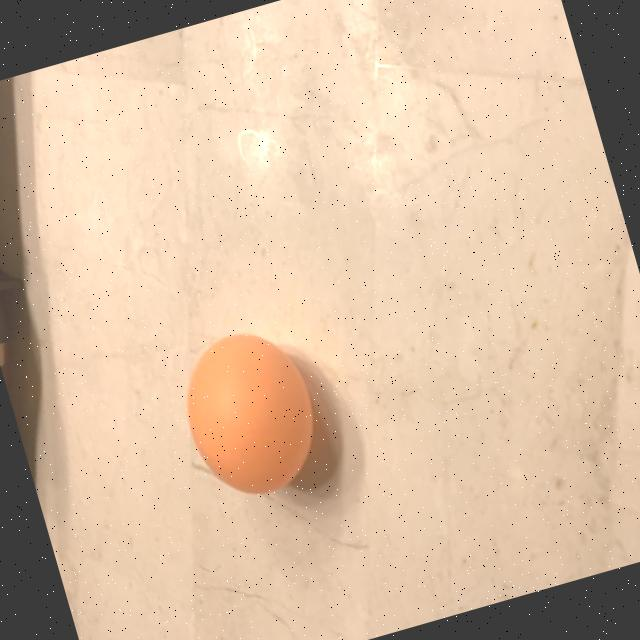ping-pong-ball: (155, 304, 342, 518)
